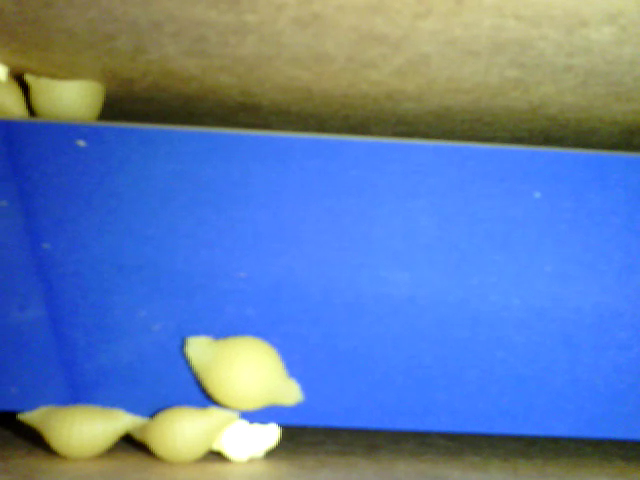shell: (183, 330, 304, 407), (16, 403, 150, 459), (126, 406, 236, 465), (25, 71, 106, 121)
